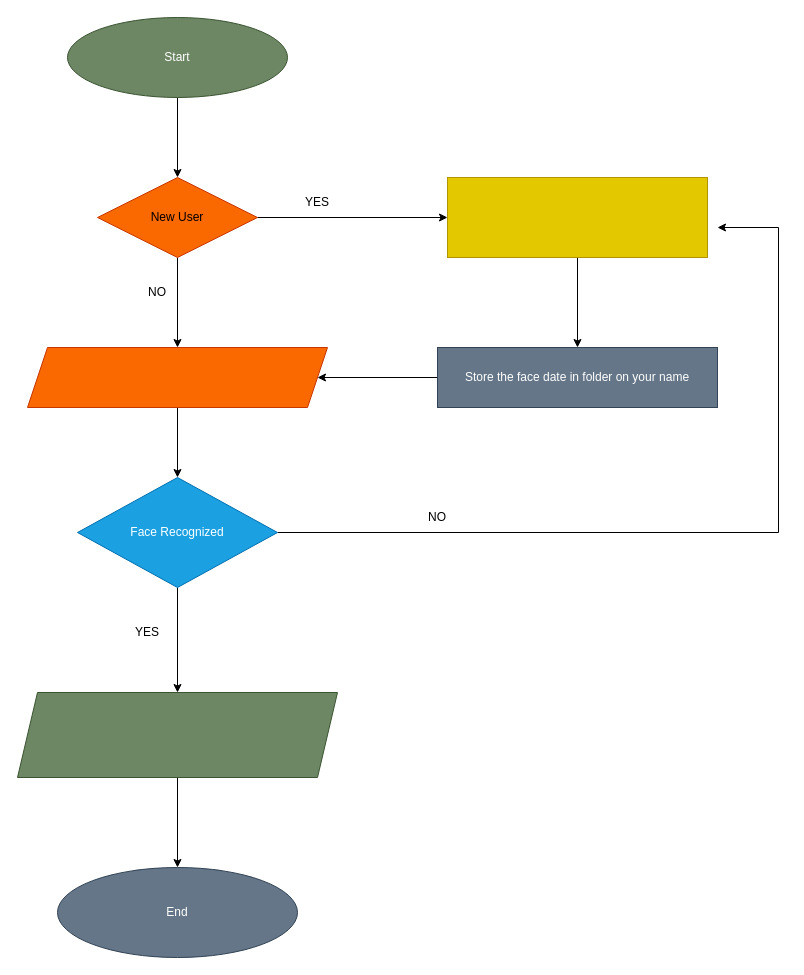
This 804x975 diagram has some shape labels left out. The box of each missing label's shape, as (x1, y1, x2, y2) in pixels:
Give your photograph: (446, 176, 708, 258)
Recognise the face: (26, 346, 328, 408)
Store in csv. file with Registration Number & Date, Time of Entry: (16, 692, 338, 778)
